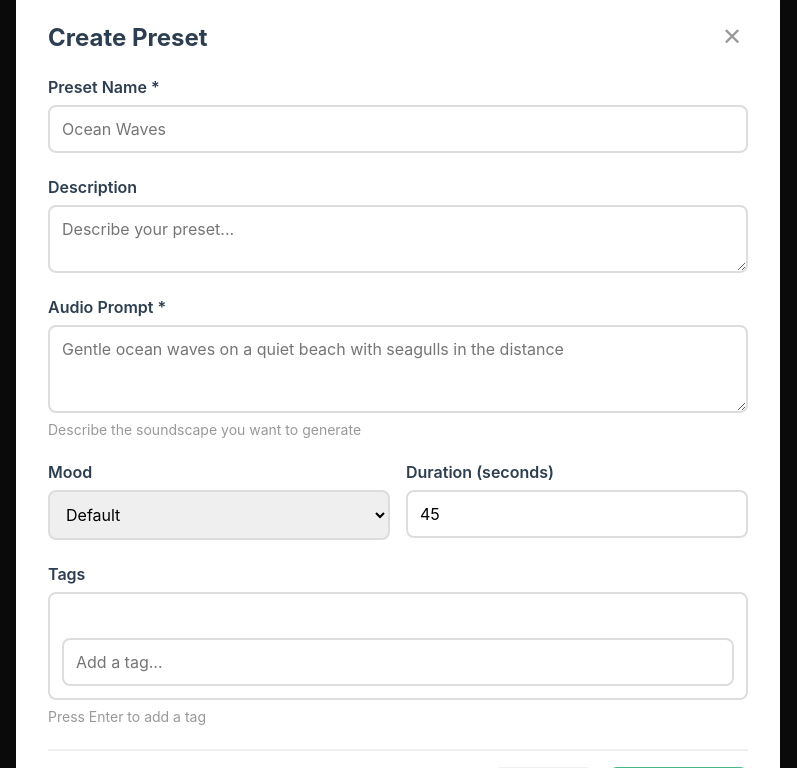
it: PresetEditor › shows error message when save fails
Type "Test Preset" into the field with id "name".
click(398, 129); type("Test Preset")  # box [48,105,748,153]
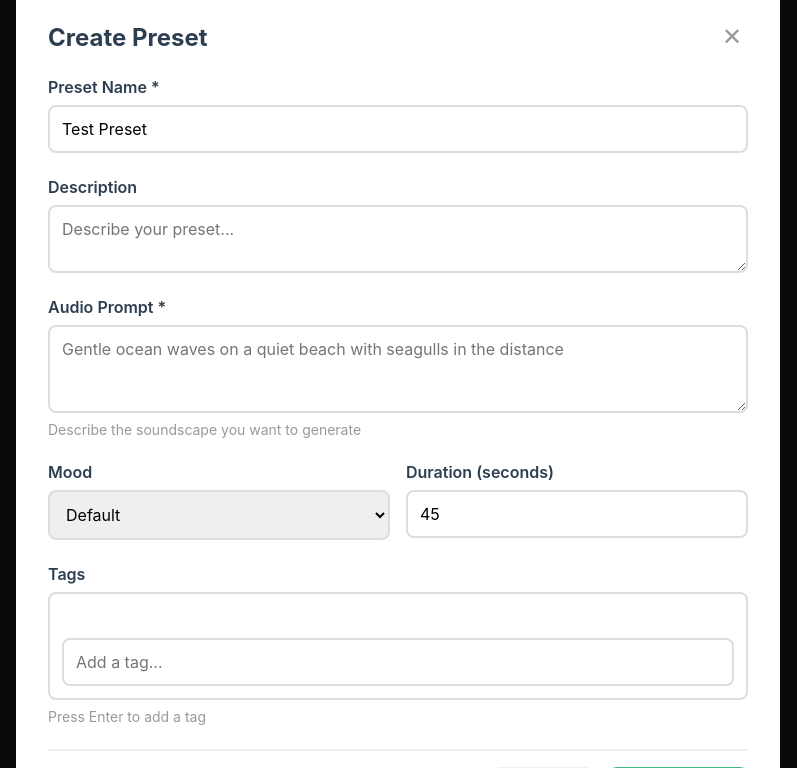
Replace the text in the text box labelled "Audio Prompt *" with "Test prompt" at (398, 369), box [48,325,748,413]
(page scrolled)
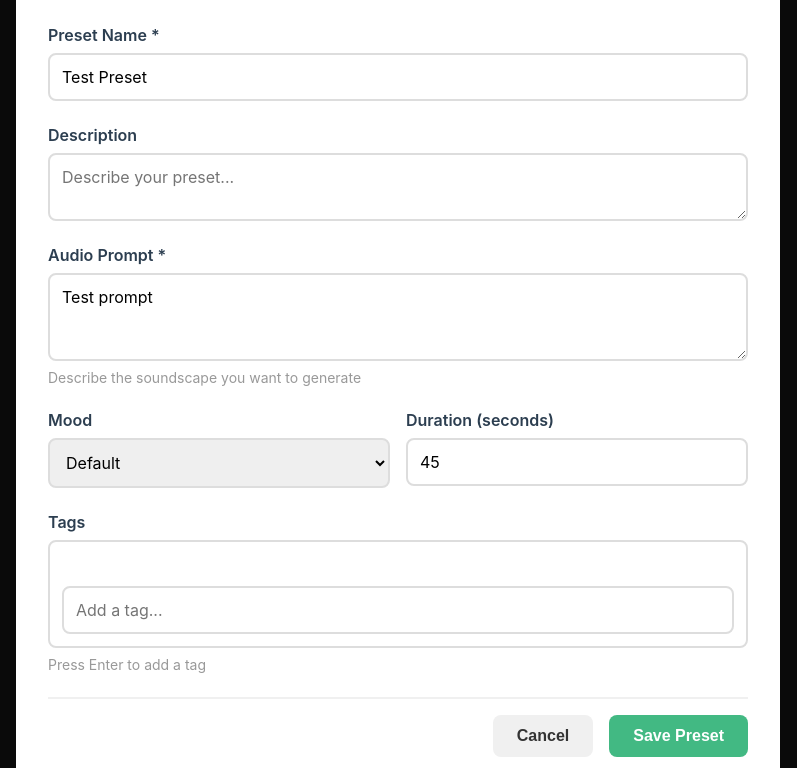
Submit the form
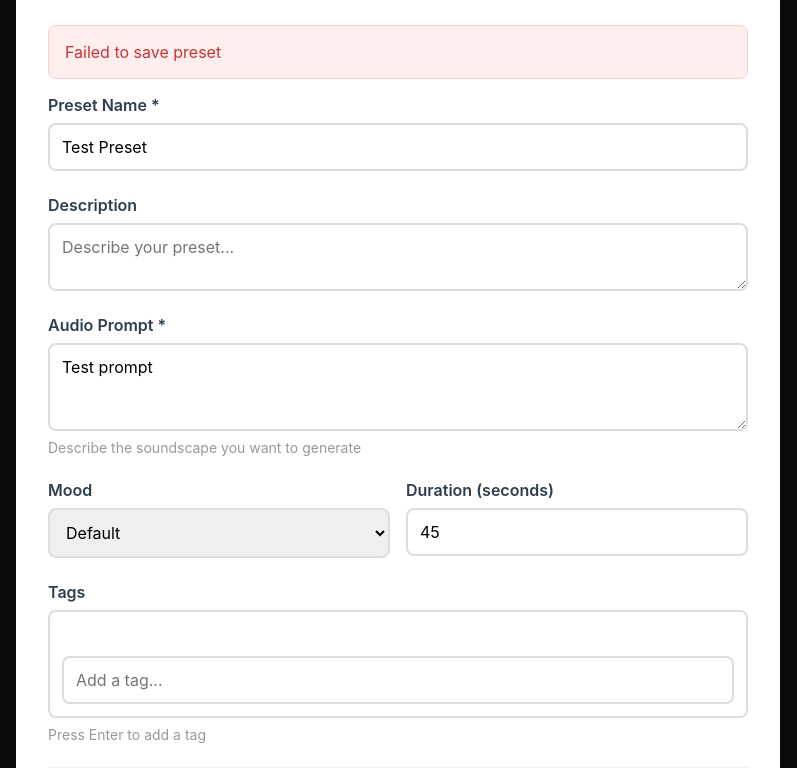
Now the text "Failed to save preset" is shown, box [48,25,748,79]
